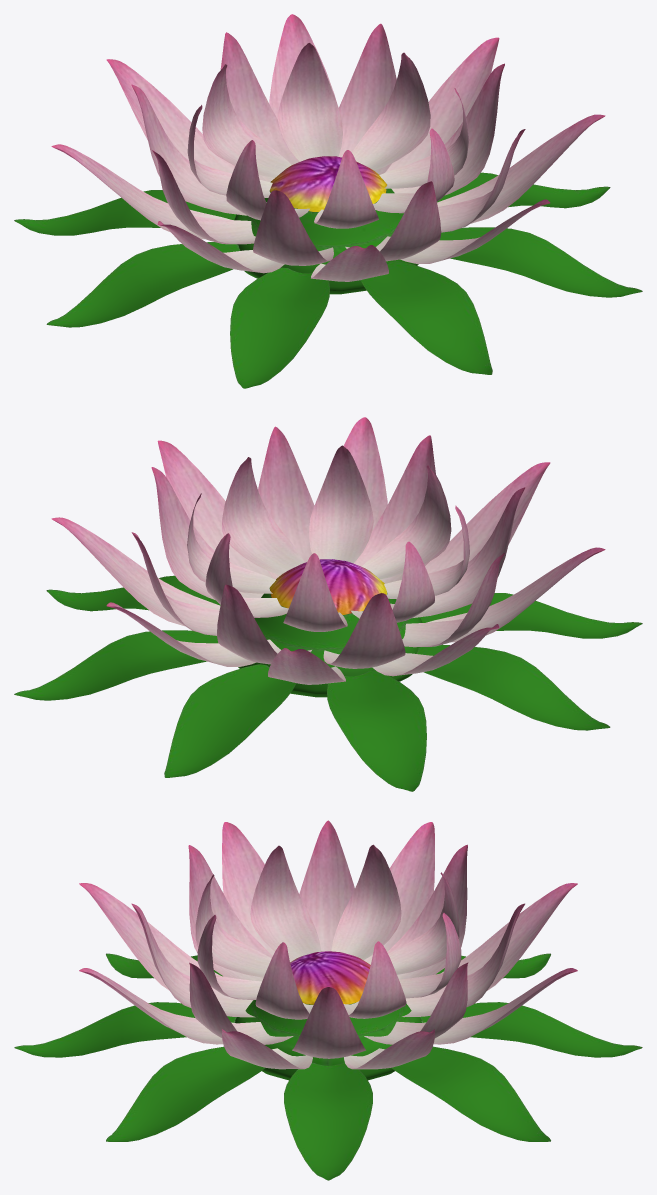
3 views of the same model, one above another, from view 1: azimuth 30°, elevation 25°; view 2: azimuth 150°, elevation 25°; view 3: azimuth 270°, elevation 25° (orthographic). The views are drawn at different scales.
Visible parts, largest first — view 1: e47d27d6; view 2: e47d27d6; view 3: e47d27d6.
Boxes of the visible parts, left/top/right/bottom form: e47d27d6: left=14, top=14, right=642, bottom=388; e47d27d6: left=14, top=417, right=642, bottom=791; e47d27d6: left=14, top=820, right=642, bottom=1180.
Size of the model in its own units: 0.1524 by 0.0427 by 0.1524.
Materials: 1 (1 with a texture image).
